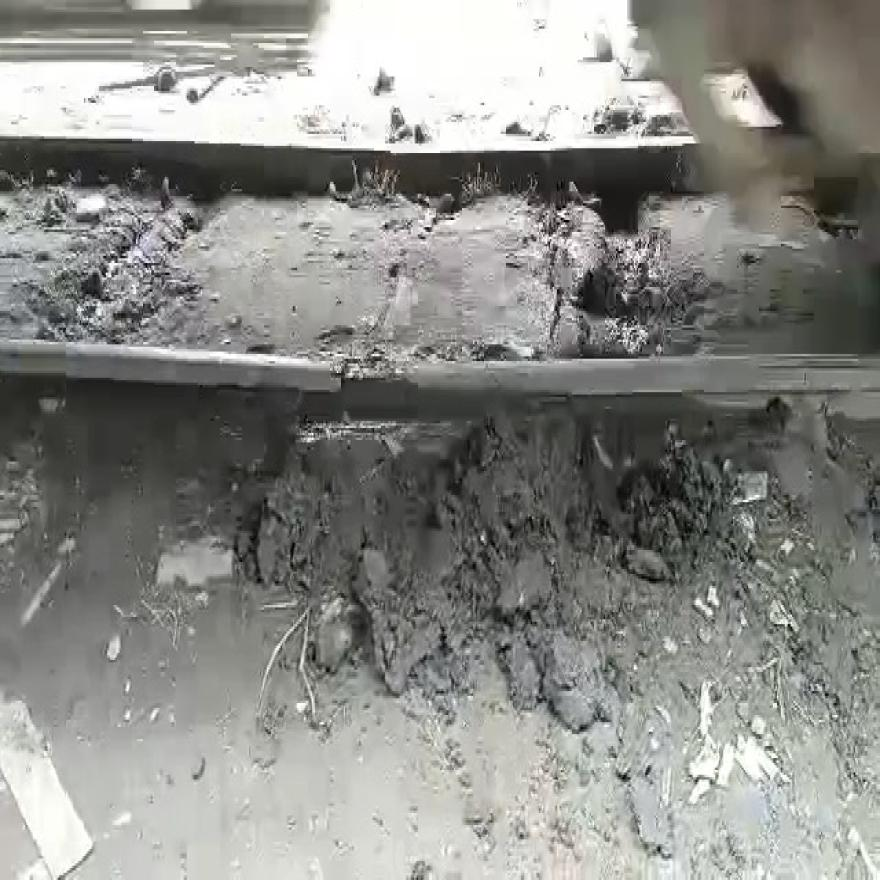railway-gap: (304, 311, 378, 437)
